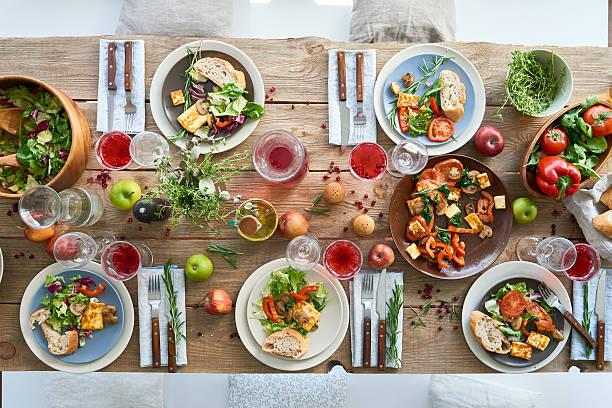Braised Crucian Carp: (388, 155, 511, 279), (149, 39, 264, 155), (234, 257, 348, 370), (19, 261, 134, 371), (462, 261, 574, 372), (373, 43, 482, 154)
